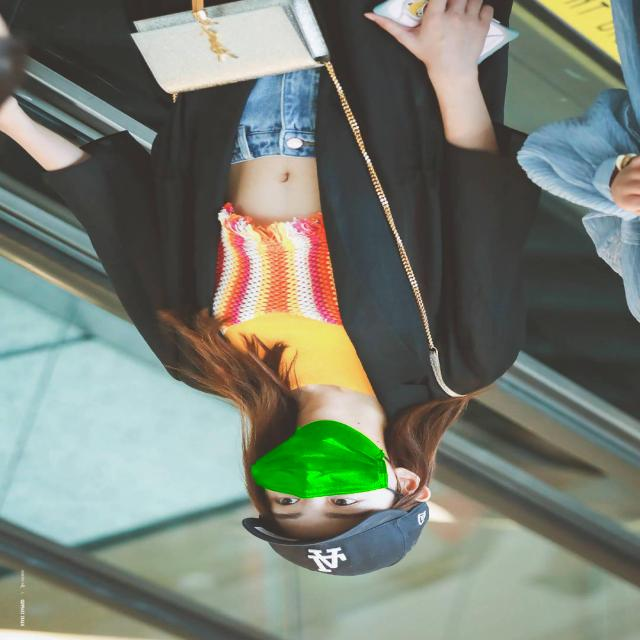Mask: (238, 414, 405, 504)
